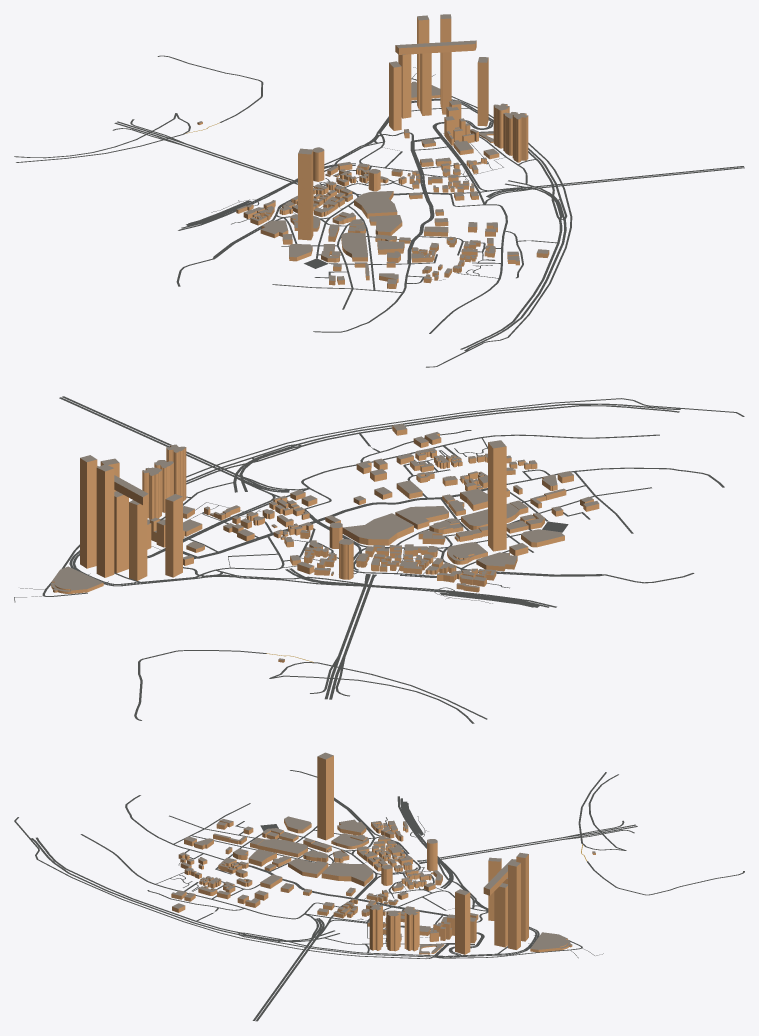
The model's file is city prototype improve.fbx.
3 renders of one model, top to bottom at view 1: azimuth 30°, elevation 25°; view 2: azimuth 150°, elevation 25°; view 3: azimuth 270°, elevation 25°, orthographic. The views are drawn at different scales.
Visible parts, largest first — view 1: 重庆来福士广场, element.026, 重庆环球金融中心, 罗汉寺, element.170, 新华路.001; view 2: 重庆来福士广场, element.026, 重庆环球金融中心, 罗汉寺, 朝天门广场, element.170, 新华路.001, element.003, 长江滨江路.001, 长江滨江路.002, 重庆大都会广场, 解放东路 (+4 smaller); view 3: 重庆来福士广场, element.026, 重庆环球金融中心, 罗汉寺, element.170, 重庆大都会广场, 朝天门广场, element.003, 新华路.001, 长江滨江路.003, 长江滨江路, 长江滨江路.001 (+1 smaller).
Boxes of the visible parts, bbox=[...] form: 重庆来福士广场: bbox=[389, 14, 488, 130]; element.026: bbox=[493, 103, 528, 162]; 重庆环球金融中心: bbox=[298, 148, 313, 240]; 罗汉寺: bbox=[354, 191, 397, 218]; element.170: bbox=[426, 142, 572, 367]; 新华路.001: bbox=[313, 137, 443, 332]; 重庆来福士广场: bbox=[80, 455, 182, 580]; element.026: bbox=[142, 444, 186, 519]; 重庆环球金融中心: bbox=[488, 440, 506, 551]; 罗汉寺: bbox=[342, 513, 413, 545]; 朝天门广场: bbox=[51, 566, 103, 593]; element.170: bbox=[186, 398, 744, 477]; 新华路.001: bbox=[183, 467, 724, 557]; element.003: bbox=[395, 506, 448, 529]; 长江滨江路.001: bbox=[298, 403, 680, 444]; 长江滨江路.002: bbox=[301, 405, 679, 446]; 重庆大都会广场: bbox=[461, 503, 519, 529]; 解放东路: bbox=[301, 434, 659, 488]; 重庆来福士广场: bbox=[455, 852, 528, 954]; element.026: bbox=[369, 904, 419, 951]; 重庆环球金融中心: bbox=[317, 752, 333, 840]; 罗汉寺: bbox=[321, 862, 373, 886]; element.170: bbox=[14, 817, 433, 958]; 重庆大都会广场: bbox=[257, 839, 307, 857]; 朝天门广场: bbox=[530, 932, 572, 952]; element.003: bbox=[288, 858, 328, 877]; 新华路.001: bbox=[125, 795, 447, 916]; 长江滨江路.003: bbox=[240, 932, 533, 956]; 长江滨江路: bbox=[239, 935, 534, 957]; 长江滨江路.001: bbox=[31, 838, 237, 934].
Bounding box in the file's own units: 226052 × 35000 × 277474.
